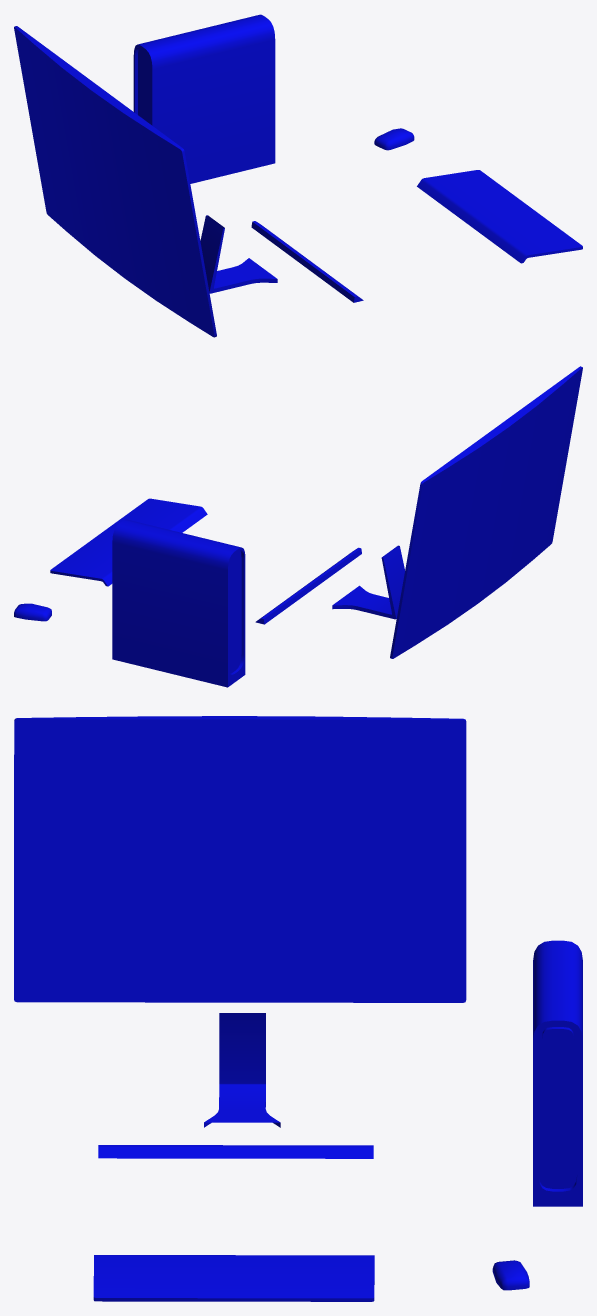
3 views of the same model, one above another, from view 1: azimuth 30°, elevation 25°; view 2: azimuth 150°, elevation 25°; view 3: azimuth 270°, elevation 25° (orthographic). The views are drawn at different scales.
Parts seen in each view (by area): view 1: Desktop_PC_Low_EXP; view 2: Desktop_PC_Low_EXP; view 3: Desktop_PC_Low_EXP.
Part boxes in pixels (x1,y1,x2,y2): Desktop_PC_Low_EXP: (14,14,582,337); Desktop_PC_Low_EXP: (14,366,582,687); Desktop_PC_Low_EXP: (14,716,582,1301).
Bounding box in the file's own units: 23.68 × 11.71 × 19.95.
